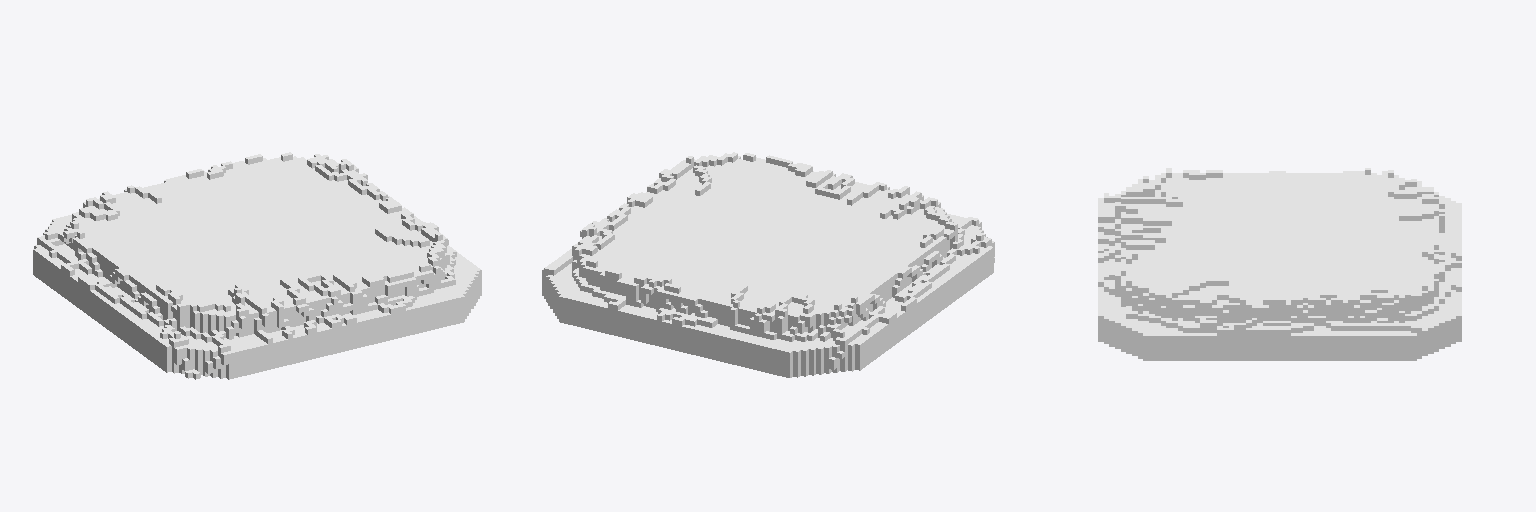
The model's file is button_glued_deactivated.obj.
3 renders of one model, left to right at view 1: azimuth 30°, elevation 25°; view 2: azimuth 150°, elevation 25°; view 3: azimuth 270°, elevation 25°, orthographic.
Visible parts, largest first — view 1: object 1; view 2: object 1; view 3: object 1.
Boxes of the visible parts, <box> form: object 1: <box>33,152,481,379</box>; object 1: <box>542,152,994,377</box>; object 1: <box>1098,168,1461,360</box>.
Bounding box in the file's own units: 6.4 × 1.1 × 6.4.